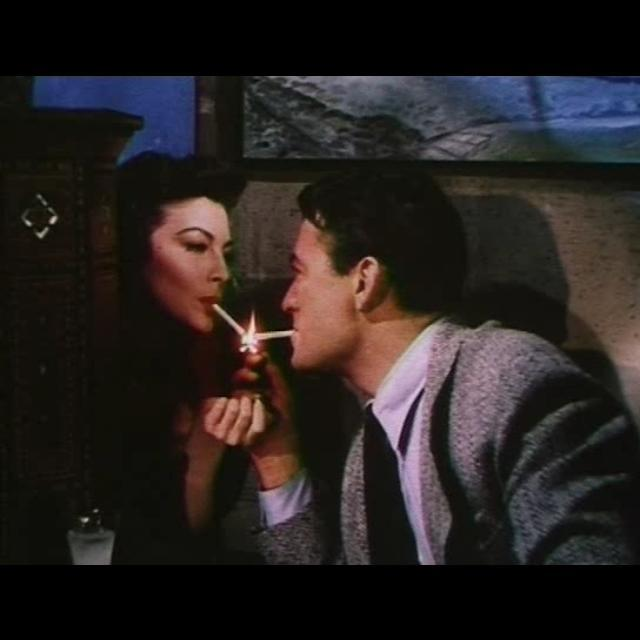rokok: (210, 297, 247, 337), (251, 326, 299, 342)
